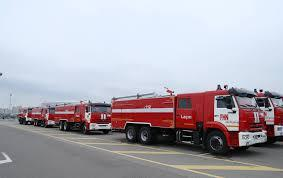Fire-engine: (109, 89, 269, 154), (50, 103, 109, 133)
